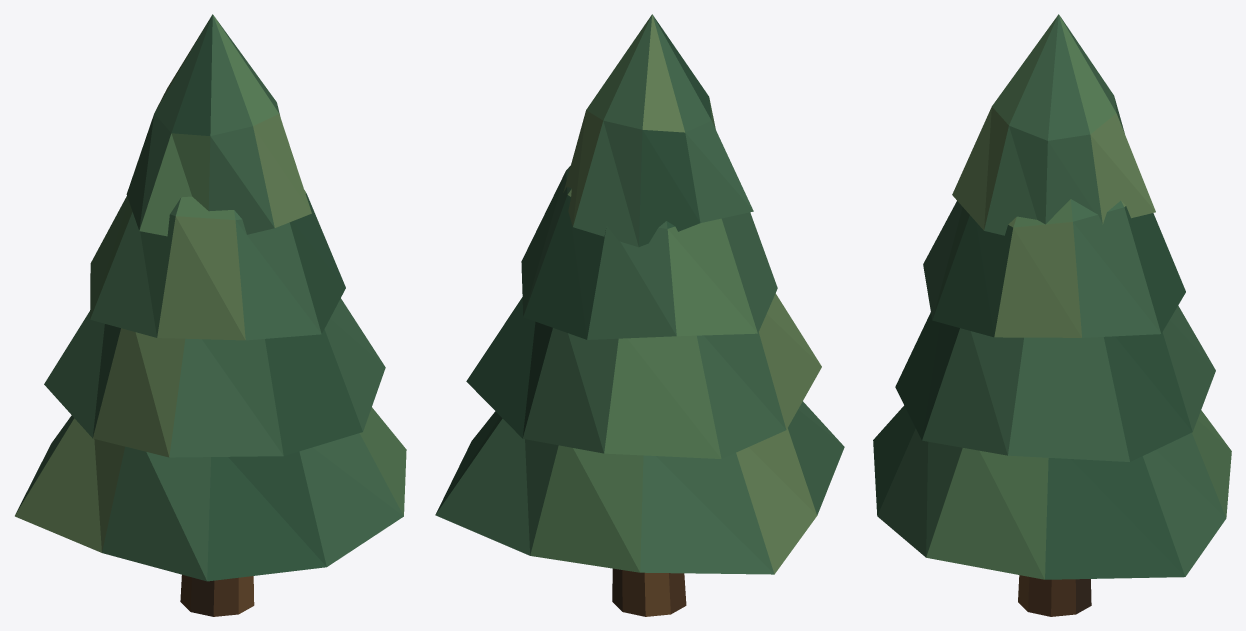
File: low-poly-pine-01.obj
The picture shows the model from 3 angles, left to right: view 1: azimuth 30°, elevation 25°; view 2: azimuth 150°, elevation 25°; view 3: azimuth 270°, elevation 25°; orthographic projection.
Parts seen in each view (by area): view 1: Orcbands_Pine_01; view 2: Orcbands_Pine_01; view 3: Orcbands_Pine_01.
Part boxes in pixels (x1,y1,x2,y2): Orcbands_Pine_01: (15, 14, 406, 616); Orcbands_Pine_01: (435, 14, 844, 616); Orcbands_Pine_01: (873, 14, 1231, 616).
Size of the model in its own units: 2.81 by 4.54 by 2.52.
